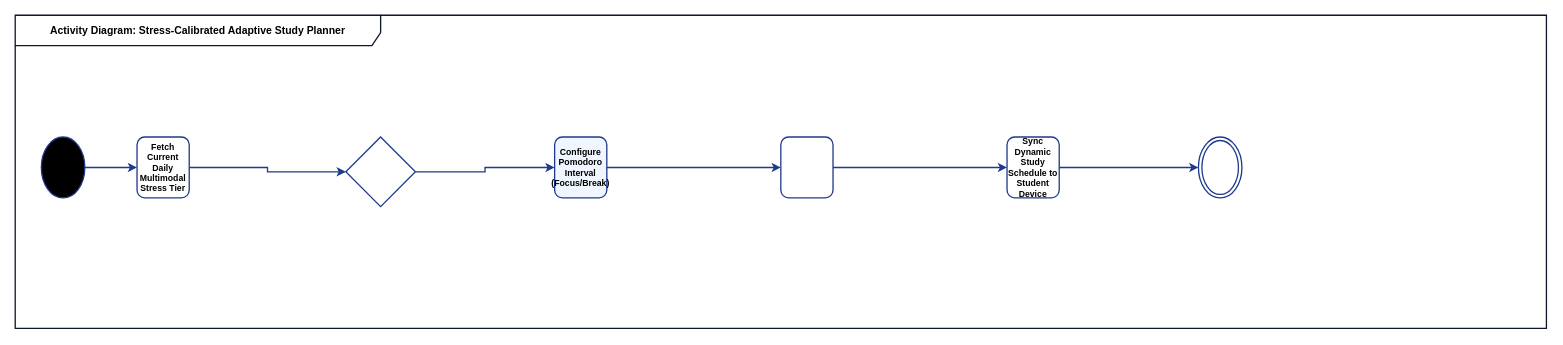
The diagram is 1563 pixels wide and 345 high, and some of its shapes have lost their labels. Here are the shapes that lost their labels. From the top down, the centre of each, then its label:
At point (380, 171): "Evaluate Cognitive Workload Capacity".
At point (806, 167): "Insert Targeted Mindfulness & Breathing Breaks".
At point (1219, 167): "End".
